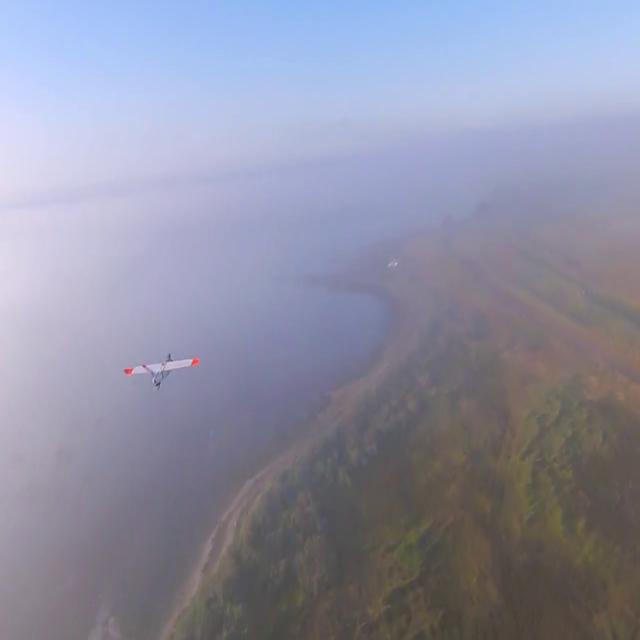iha: (160, 354, 165, 396)
